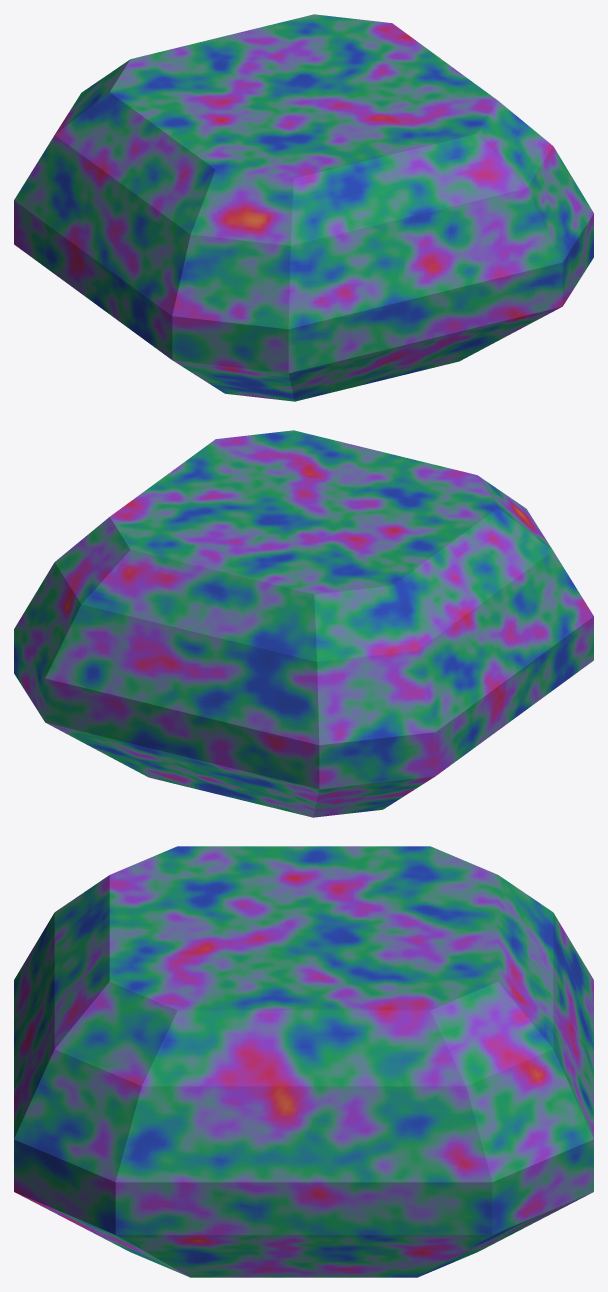
Rendered from SM_Opal_Flawless.fbx.
3 views of the same model, one above another, from view 1: azimuth 30°, elevation 25°; view 2: azimuth 150°, elevation 25°; view 3: azimuth 270°, elevation 25° (orthographic). The views are drawn at different scales.
Visible parts, largest first — view 1: SM_Opal_Flawless; view 2: SM_Opal_Flawless; view 3: SM_Opal_Flawless.
Boxes of the visible parts, left/top/right/bottom form: SM_Opal_Flawless: left=14, top=14, right=593, bottom=401; SM_Opal_Flawless: left=14, top=430, right=593, bottom=817; SM_Opal_Flawless: left=14, top=846, right=593, bottom=1277.
Bounding box in the file's own units: 20 × 20 × 12.5.
